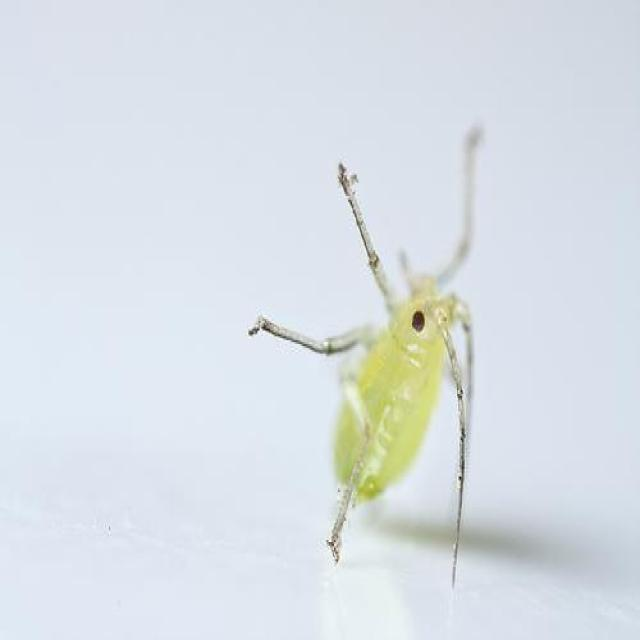Aphids: (262, 152, 502, 565)
